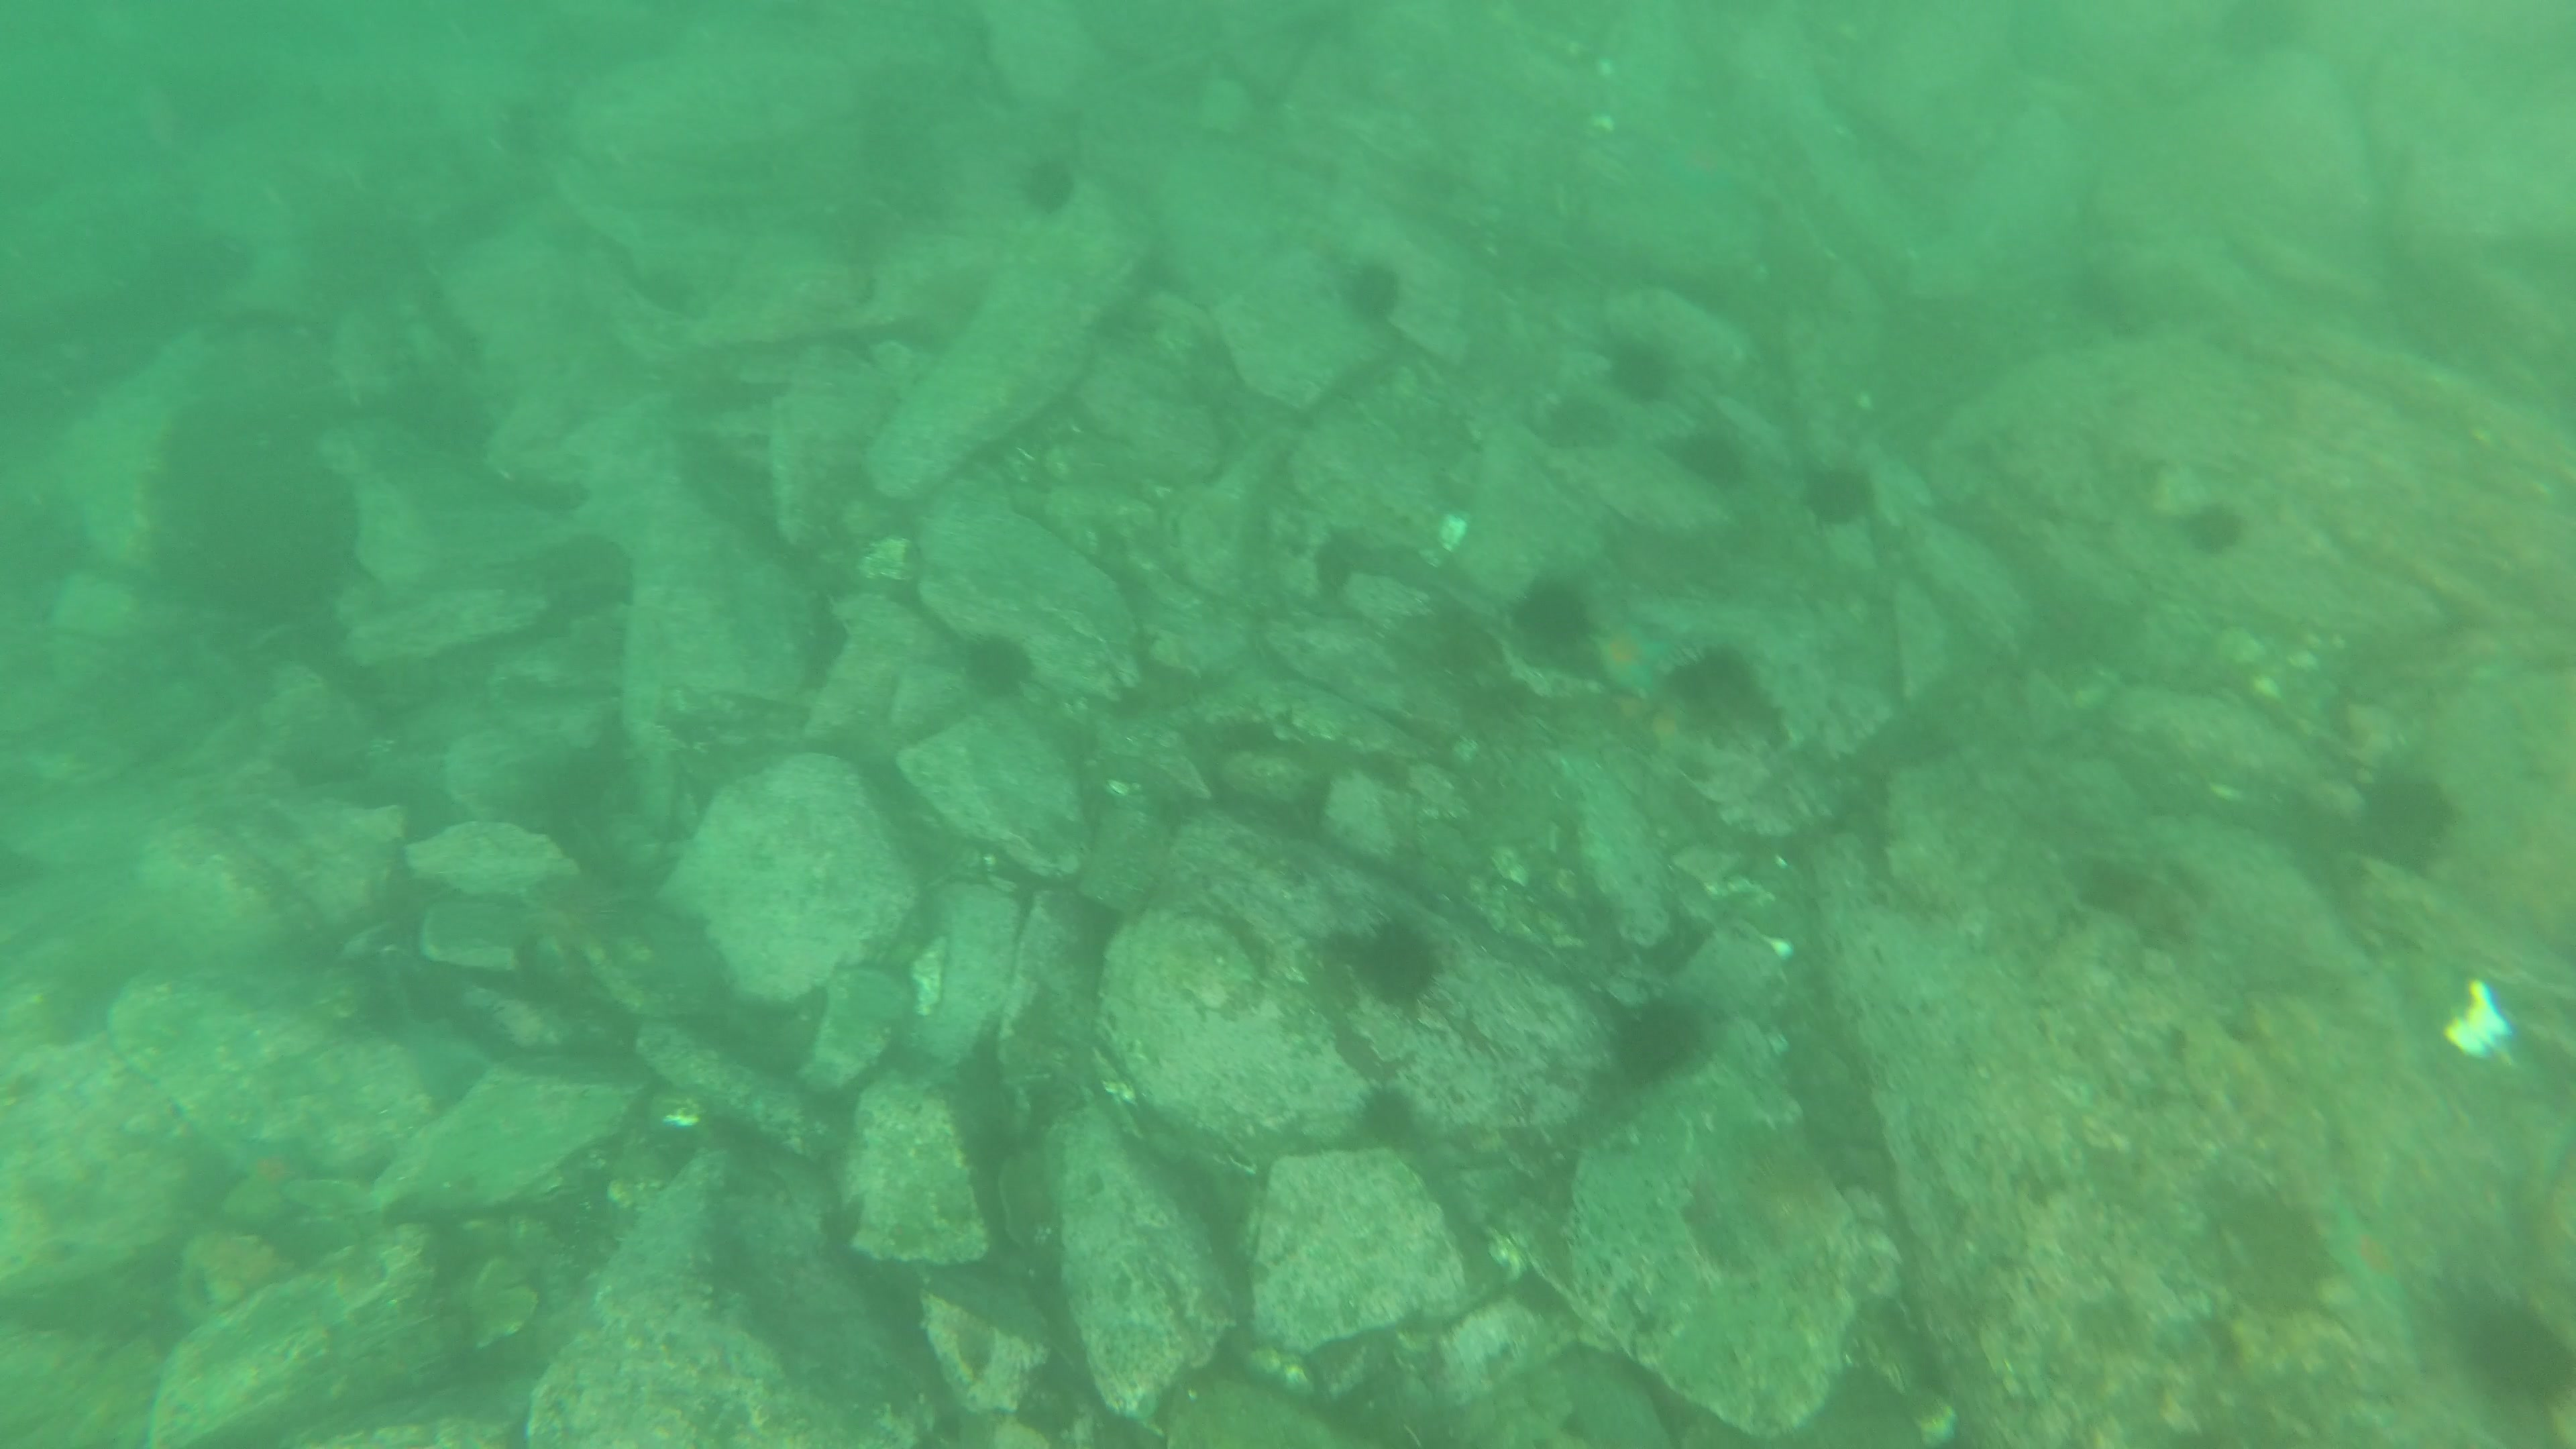echinus: (2371, 761, 2463, 867), (1665, 633, 1762, 727), (1509, 571, 1596, 658), (1352, 918, 1433, 1008), (1612, 994, 1697, 1077), (1805, 453, 1877, 527), (964, 630, 1035, 704), (1603, 331, 1674, 398), (1357, 1085, 1426, 1152), (1017, 150, 1081, 214), (1674, 425, 1739, 487), (1345, 258, 1401, 324), (2190, 502, 2250, 547)
starfish: (1589, 616, 1677, 699)
